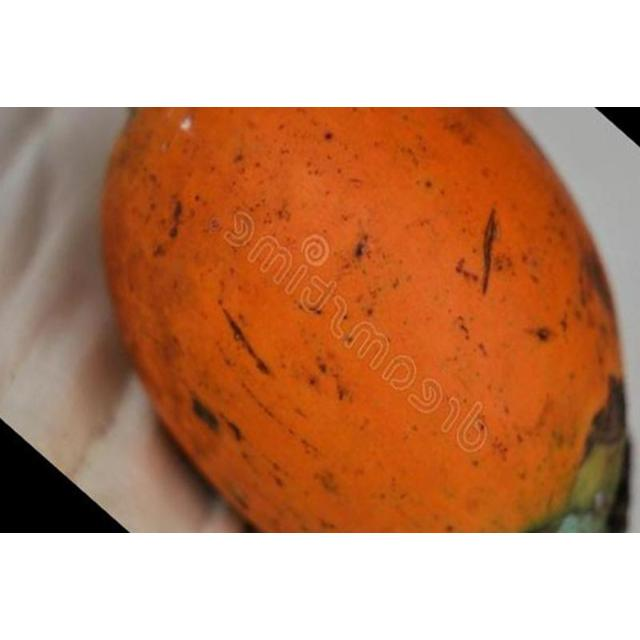good: (99, 107, 630, 533)
